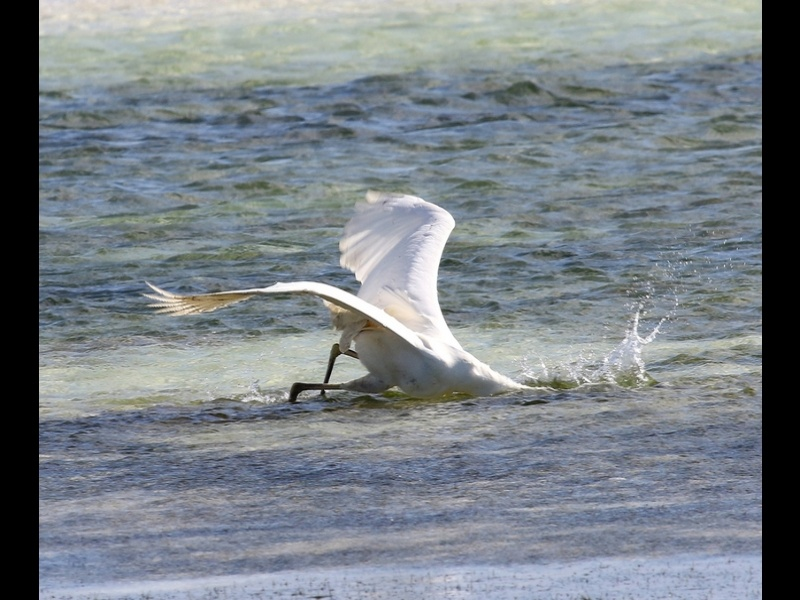heron: (137, 185, 529, 415)
